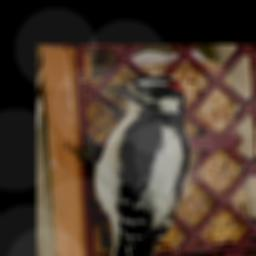Woodpecker: (66, 75, 188, 256)
